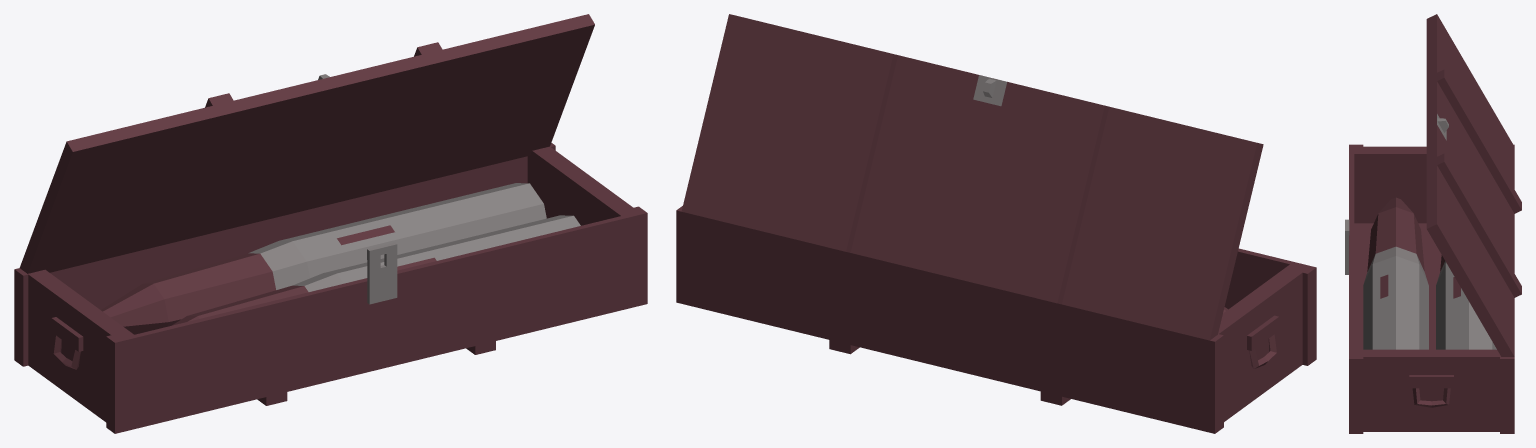
The model's file is crate-army-rocket-open.fbx.
3 renders of one model, left to right at view 1: azimuth 30°, elevation 25°; view 2: azimuth 150°, elevation 25°; view 3: azimuth 270°, elevation 25°, orthographic. The views are drawn at different scales.
Visible parts, largest first — view 1: crate-army-rocket-open; view 2: crate-army-rocket-open; view 3: crate-army-rocket-open.
Part boxes in pixels (<box>): crate-army-rocket-open: <box>14,14,647,433</box>; crate-army-rocket-open: <box>676,14,1316,433</box>; crate-army-rocket-open: <box>1345,14,1521,433</box>.
Size of the model in its own units: 1.23 by 0.5829 by 0.4268.
